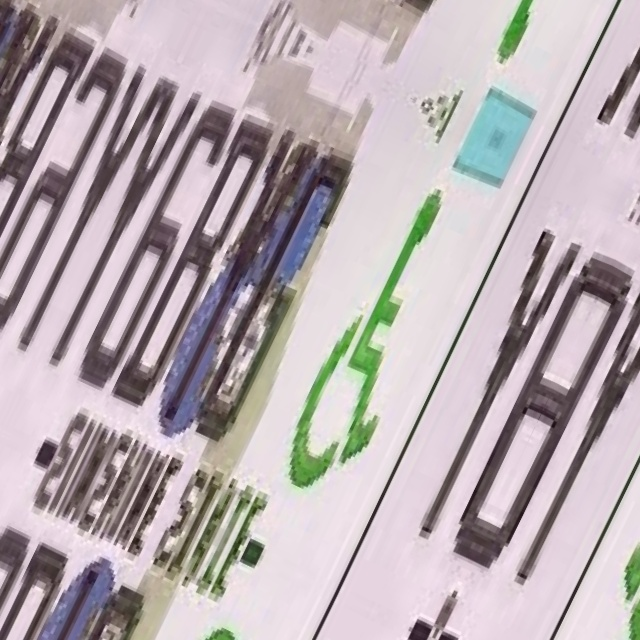ISA: (268, 172, 484, 507), (470, 0, 640, 87), (594, 328, 640, 640), (55, 616, 270, 640)
